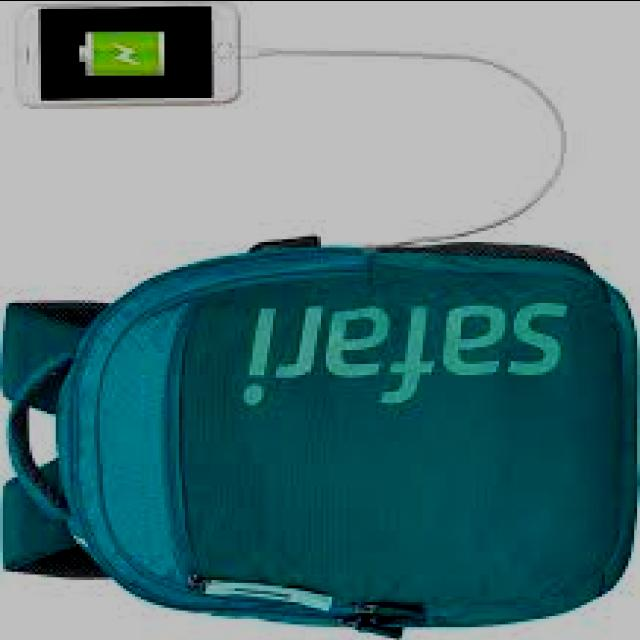backpack: (1, 237, 638, 640)
